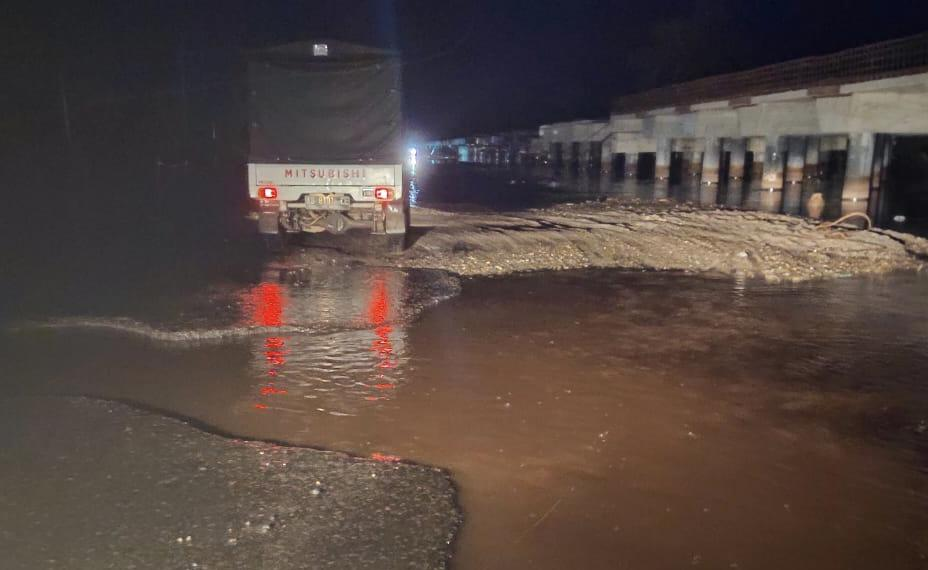Pothole: (22, 224, 928, 570), (434, 156, 928, 225)
